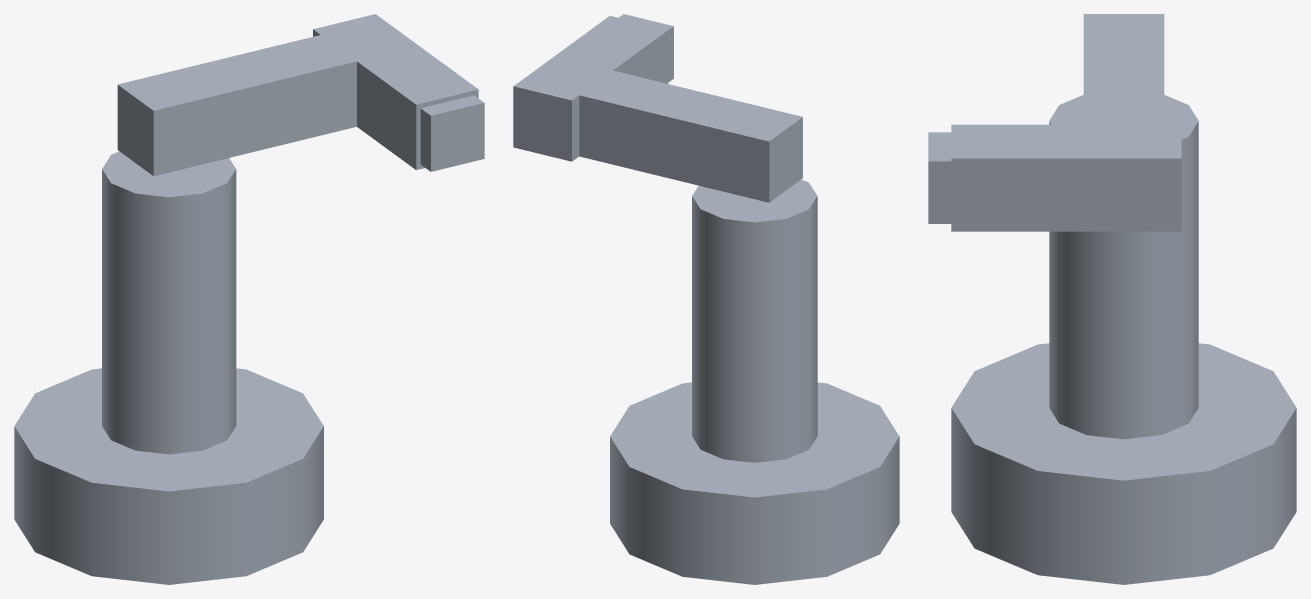
Rendered from robot.glb.
3 views of the same model, side by side, from view 1: azimuth 30°, elevation 25°; view 2: azimuth 150°, elevation 25°; view 3: azimuth 270°, elevation 25° (orthographic). The views are drawn at different scales.
Size of the model in its own units: 0.8913 by 1 by 0.6957.
